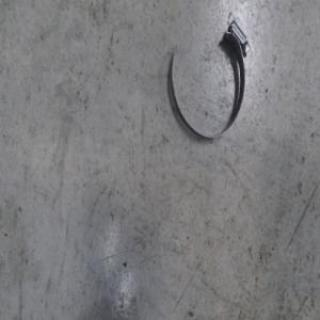AdjustableClamptrack_idkeyframe: (168, 15, 250, 144)
